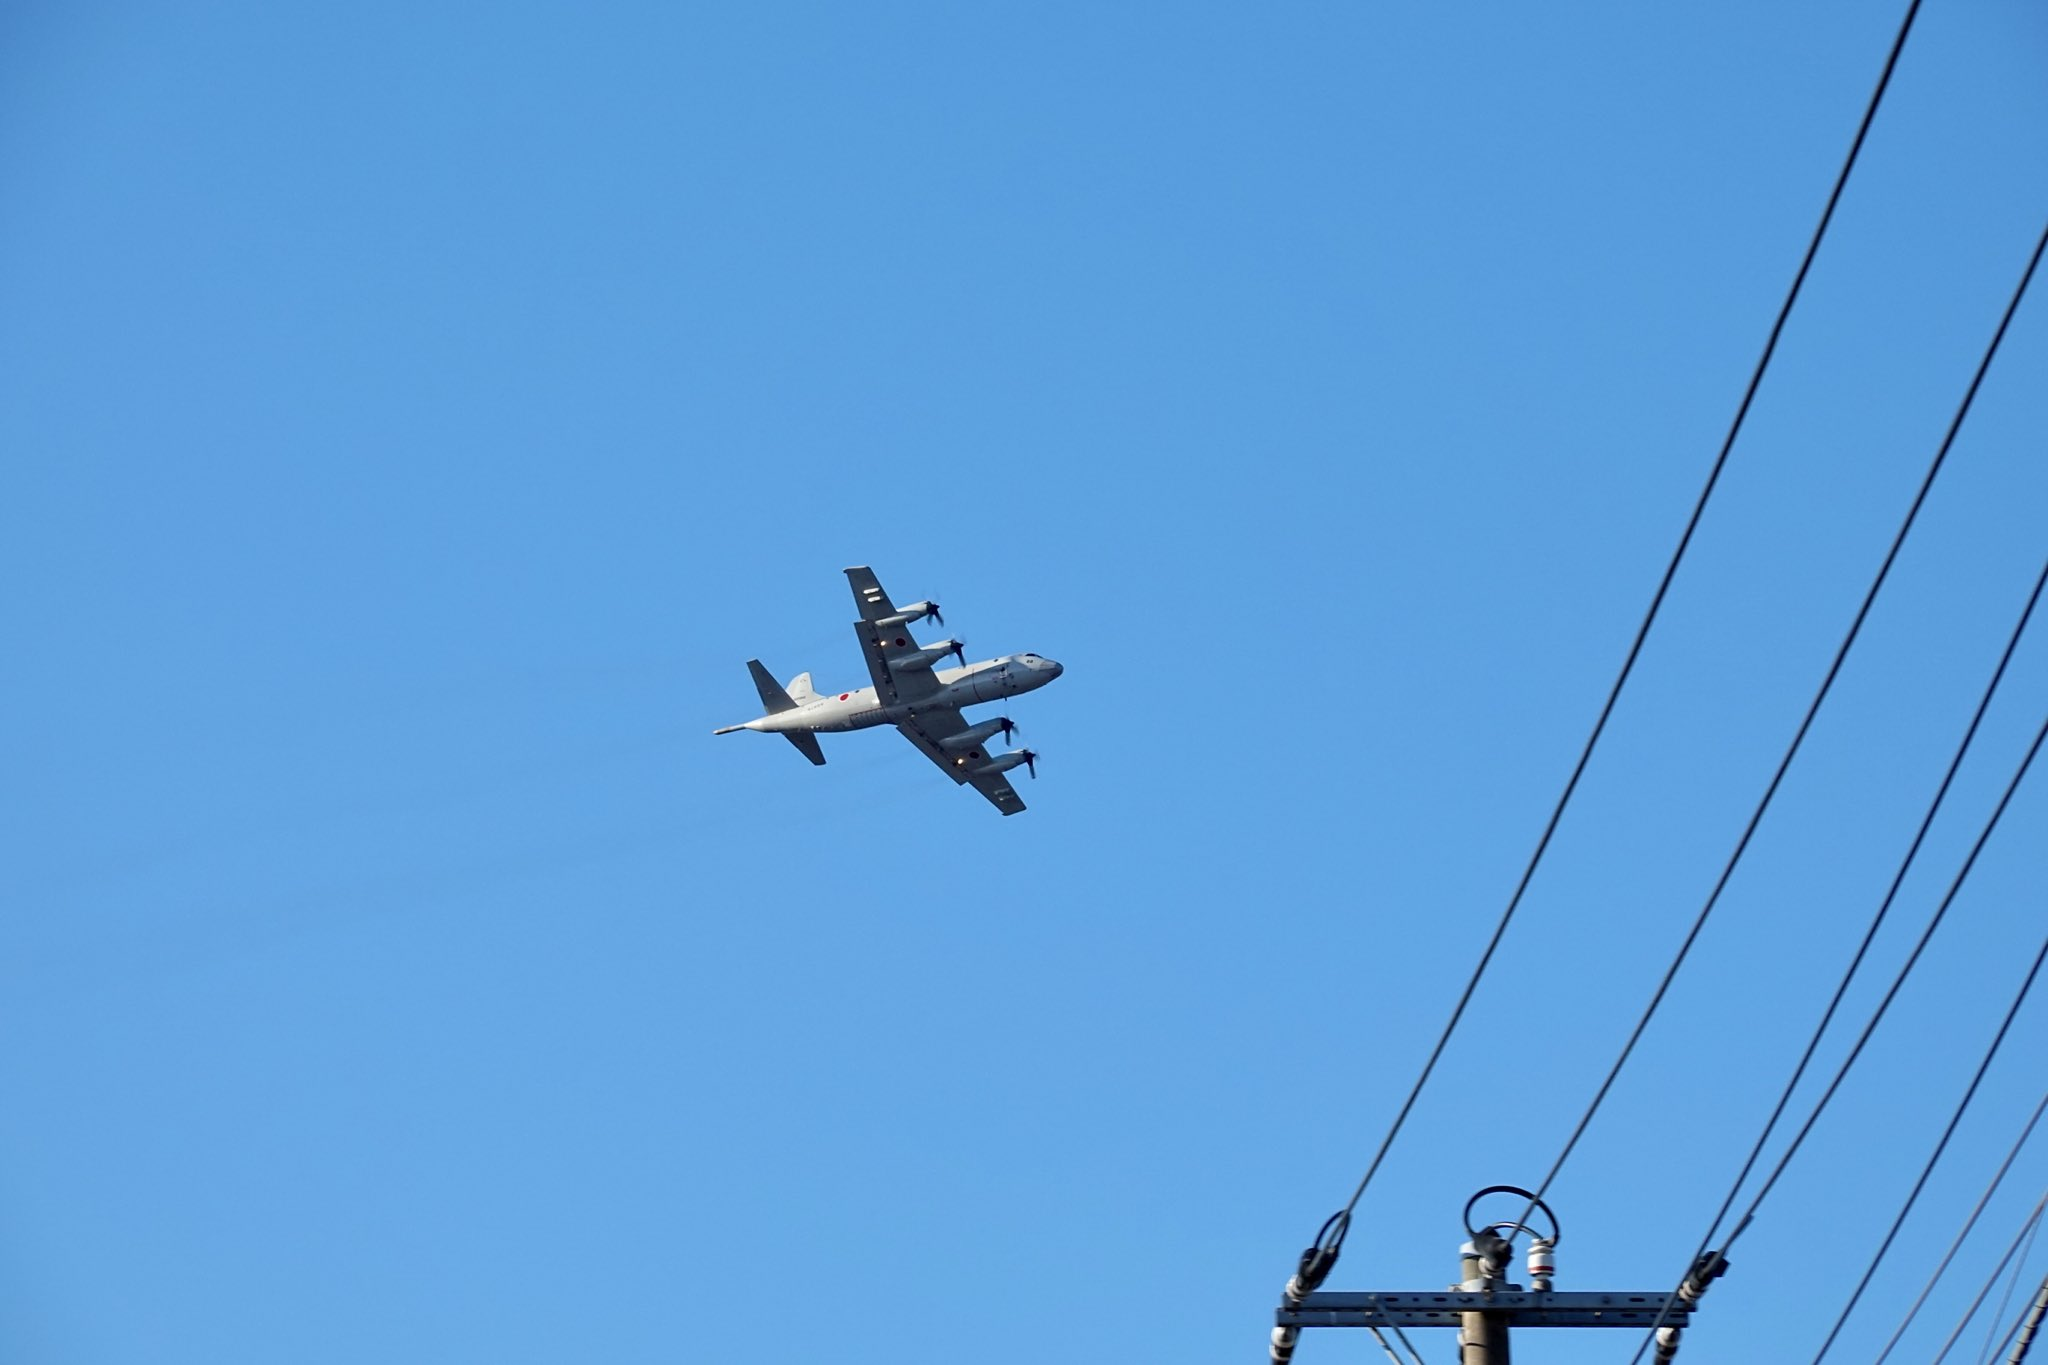airplane: (713, 565, 1064, 817)
